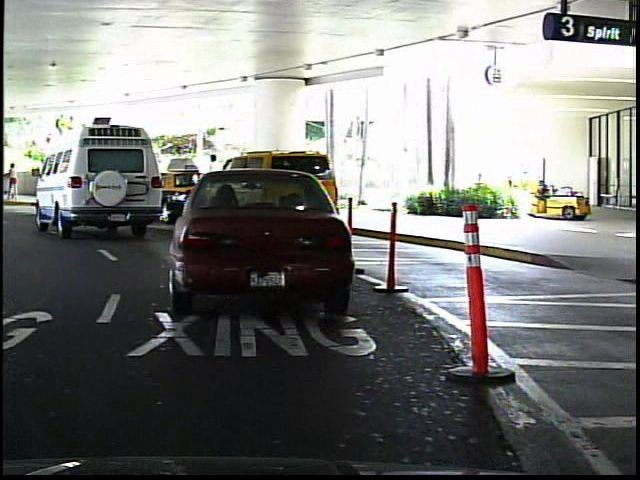person: (204, 151, 227, 210), (35, 156, 51, 200), (6, 161, 22, 202)
